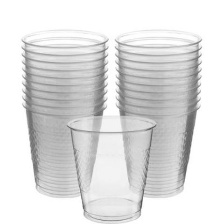glass: (16, 25, 127, 205), (112, 23, 201, 201), (63, 107, 158, 224)
